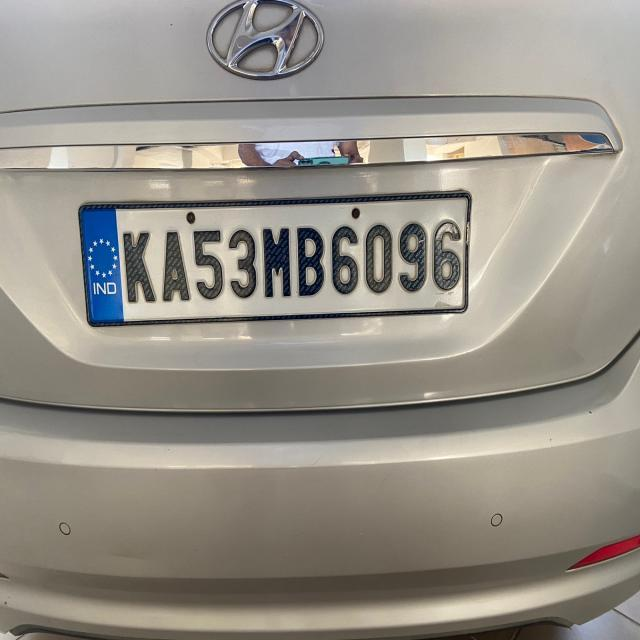0: (363, 216, 395, 301)
3: (227, 223, 260, 309)
5: (190, 220, 228, 306)
6: (430, 212, 465, 308), (329, 222, 364, 306)
9: (396, 220, 431, 302)
A: (161, 222, 191, 310)
B: (296, 220, 329, 304)
K: (120, 223, 158, 304)
M: (261, 222, 296, 306)
